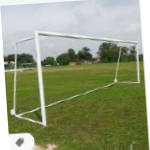goals: (11, 29, 141, 126)
